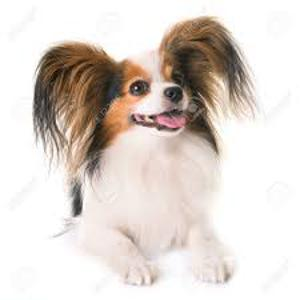yell: (33, 16, 255, 286)
